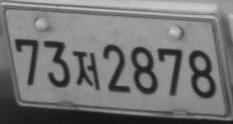2: (102, 43, 130, 93)
3: (43, 40, 70, 88)
7: (158, 47, 183, 97), (14, 38, 39, 85)
8: (187, 49, 216, 99), (130, 46, 158, 94)
저: (72, 50, 101, 90)
